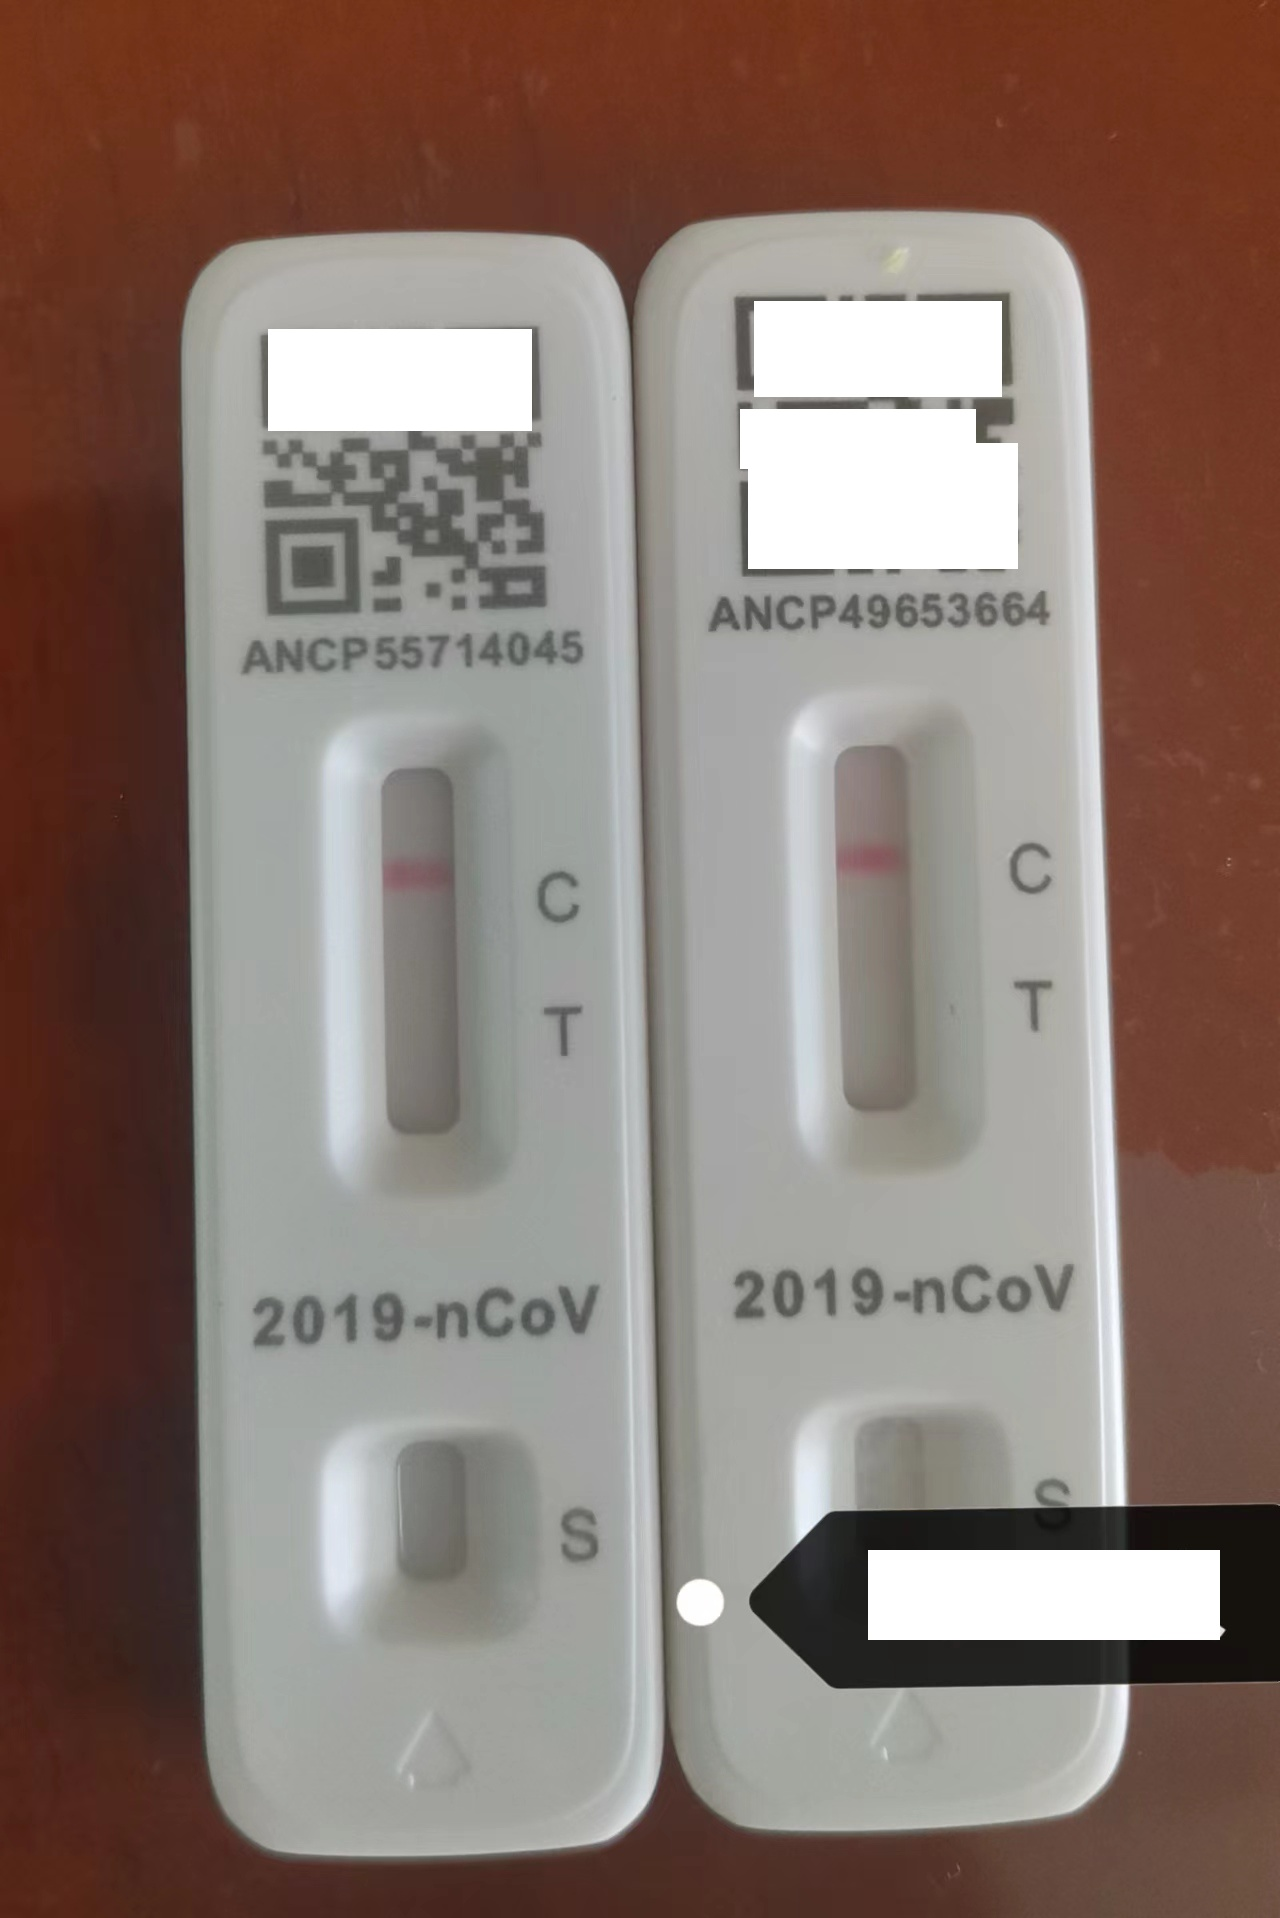negative: (791, 687, 971, 1195), (329, 717, 496, 1208)
